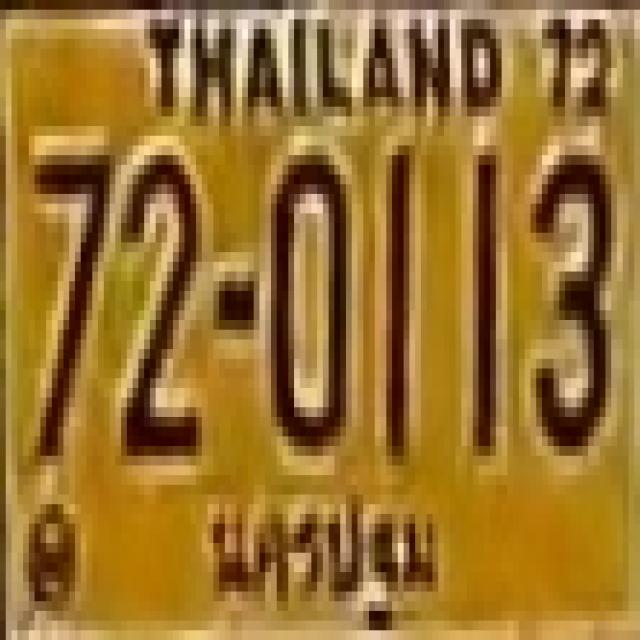0: (268, 146, 343, 446)
1: (380, 145, 410, 456), (467, 146, 496, 446)
2: (115, 150, 196, 451)
3: (528, 146, 608, 446)
7: (29, 145, 109, 456)
NPT: (197, 477, 447, 639)
